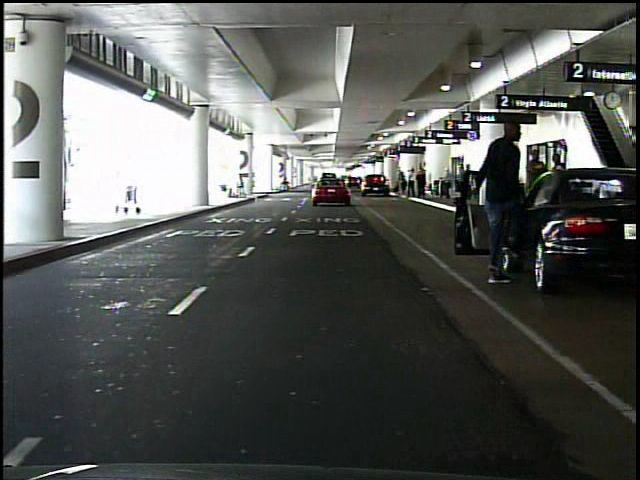person: (478, 116, 537, 291), (523, 148, 550, 228), (550, 152, 569, 229), (458, 164, 469, 206), (442, 168, 454, 200), (406, 167, 417, 200), (417, 169, 428, 201), (398, 171, 408, 197), (281, 174, 290, 191)
